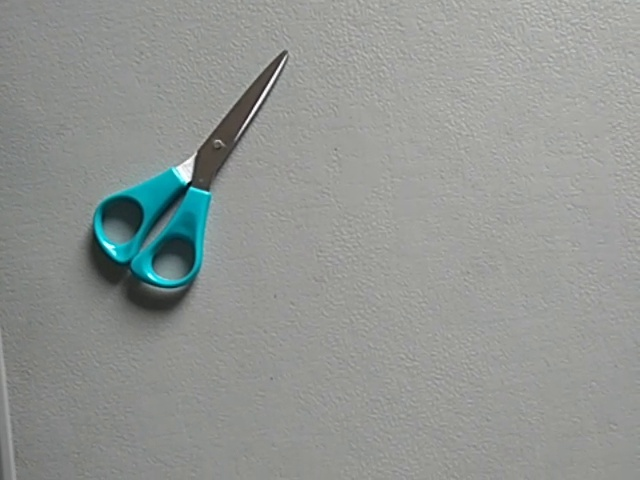Sizer: (86, 38, 297, 309)
